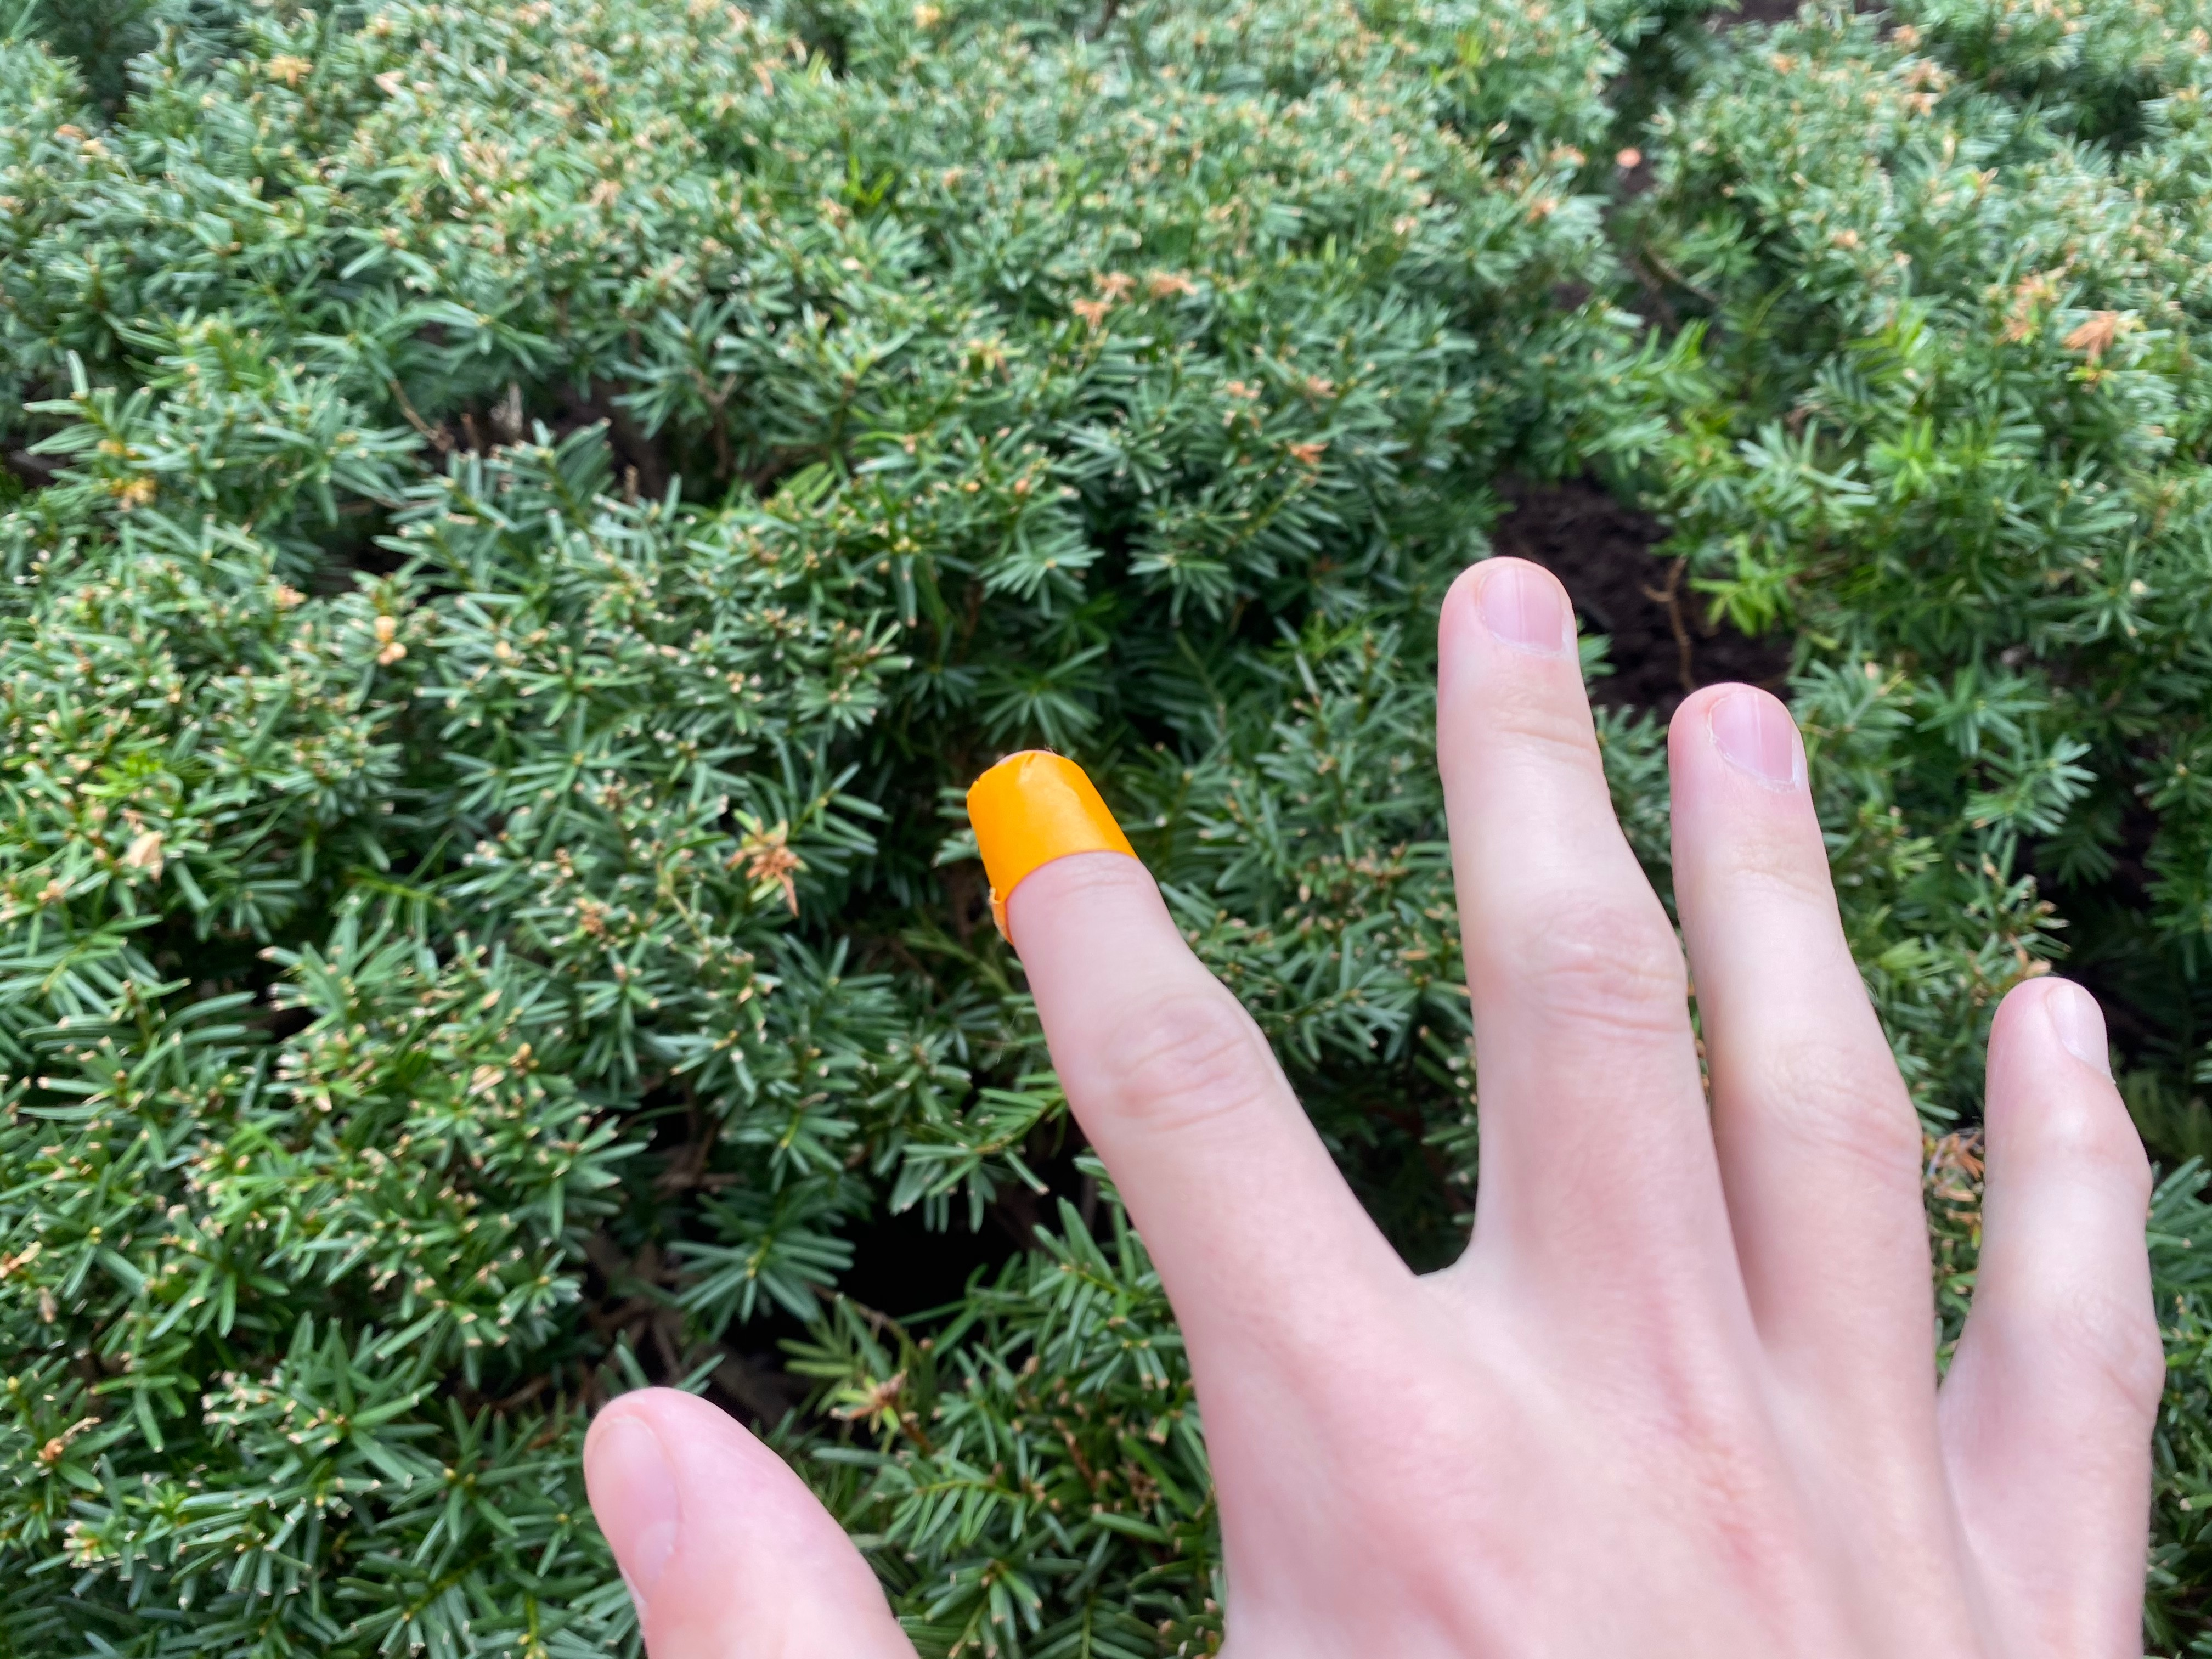fingertip: (927, 737, 1217, 943)
